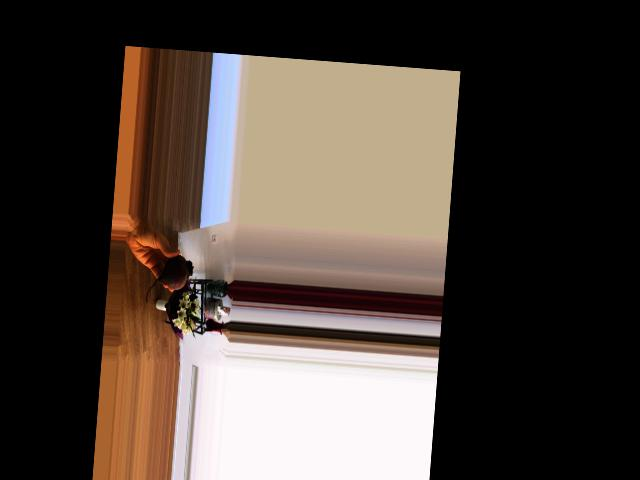beet: (145, 253, 194, 307)
